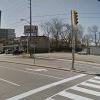Crosswalk: (51, 68, 100, 100)
